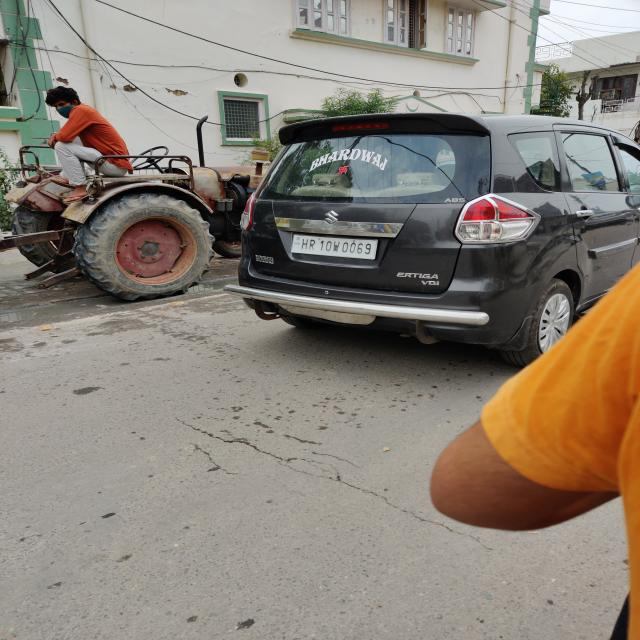Car: (235, 82, 640, 360)
tractor: (0, 101, 254, 313)
